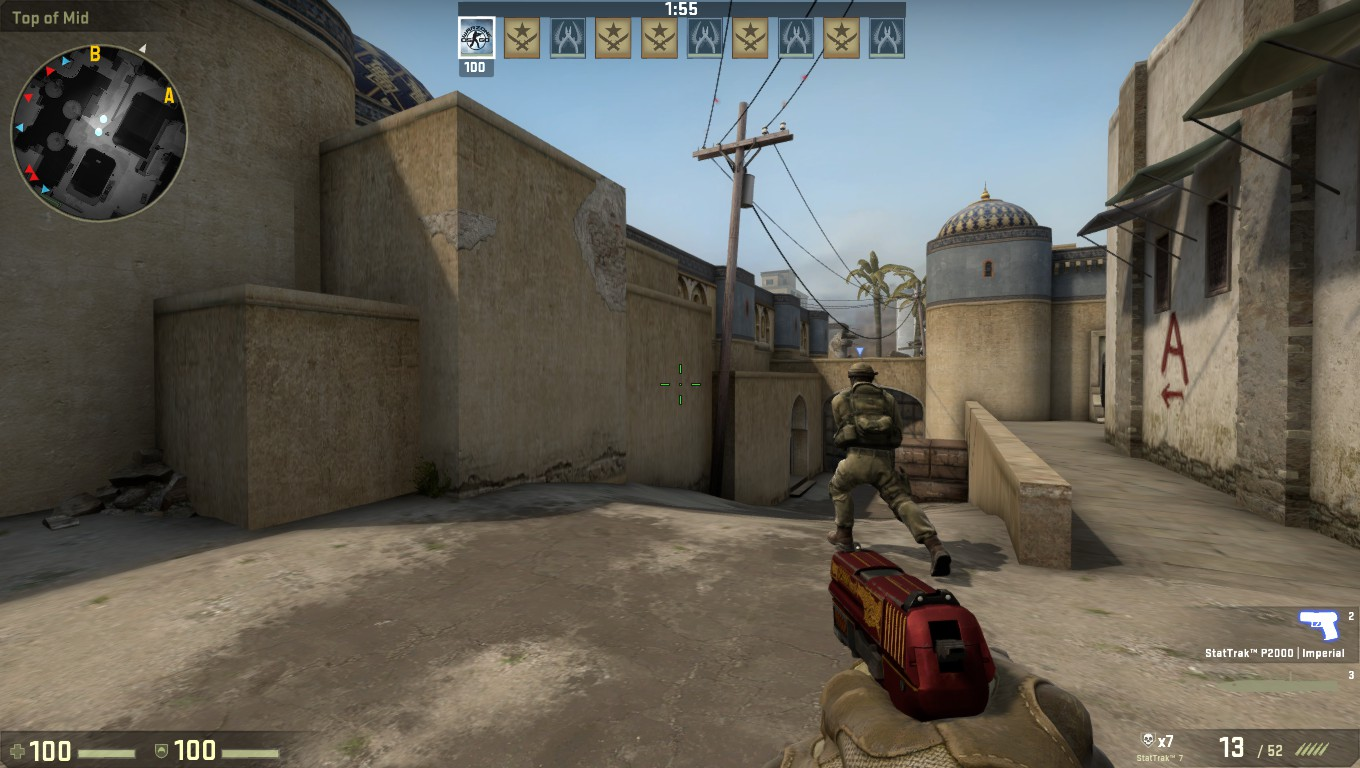c: (824, 358, 940, 578)
ch: (839, 356, 881, 393)
